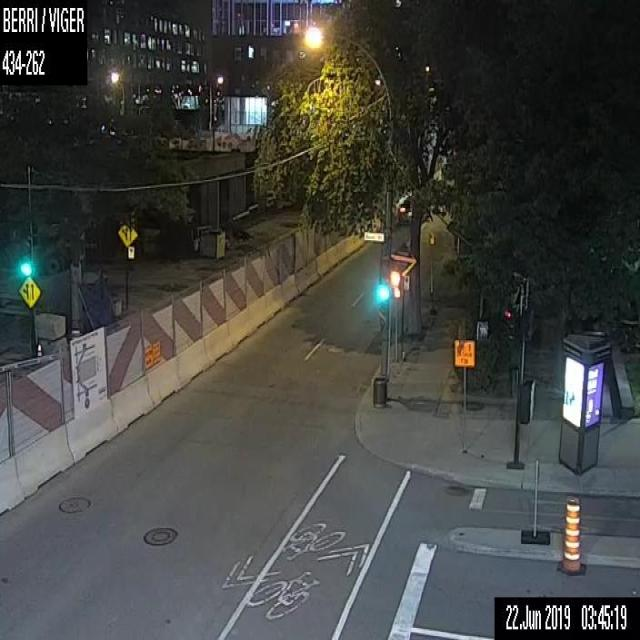construction: (0, 130, 402, 511), (556, 496, 584, 575), (453, 337, 476, 368), (35, 343, 43, 362)
vehicle: (397, 193, 411, 226)
